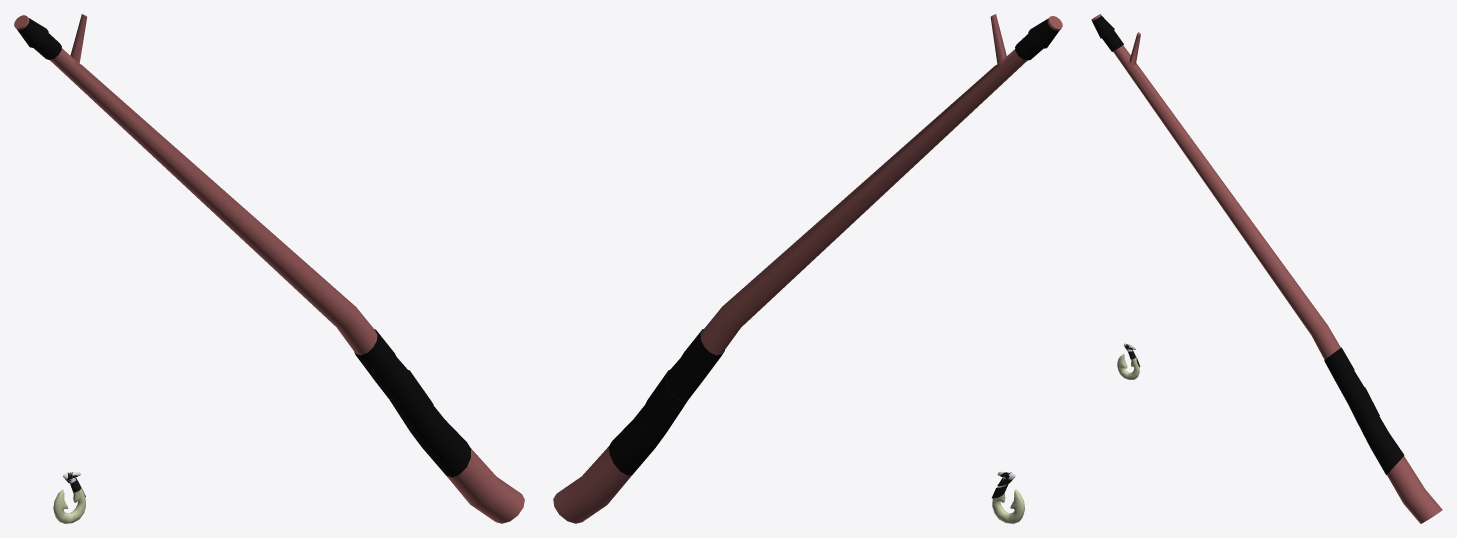
File: fishing rod.fbx
The picture shows the model from 3 angles, left to right: view 1: azimuth 30°, elevation 25°; view 2: azimuth 150°, elevation 25°; view 3: azimuth 330°, elevation 25°; orthographic projection. The views are drawn at different scales.
Visible parts, largest first — view 1: Cylinder, Cube; view 2: Cylinder, Cube; view 3: Cylinder.
Boxes of the visible parts, left/top/right/bottom form: Cylinder: left=14, top=14, right=524, bottom=523; Cube: left=53, top=488, right=85, bottom=523; Cylinder: left=553, top=14, right=1062, bottom=523; Cube: left=992, top=486, right=1024, bottom=523; Cylinder: left=1091, top=14, right=1442, bottom=523.
Bounding box in the file's own units: 922 × 1081 × 61.26.
